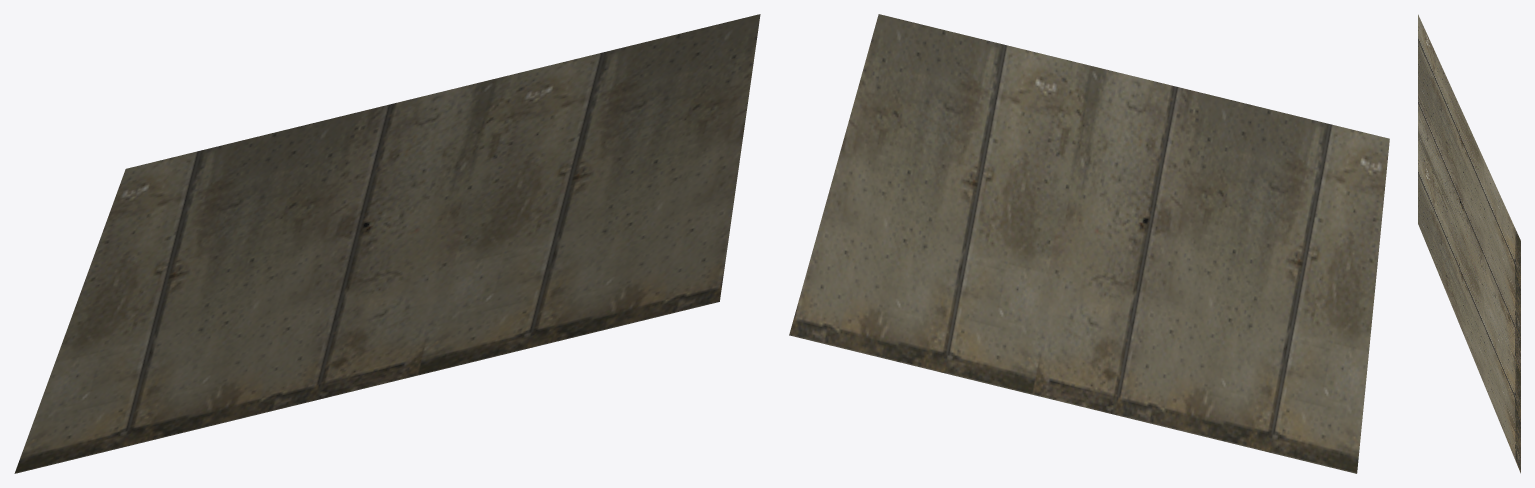
The model's file is MO_ROUNDWALL_03.fbx.
3 views of the same model, side by side, from view 1: azimuth 30°, elevation 25°; view 2: azimuth 150°, elevation 25°; view 3: azimuth 270°, elevation 25° (orthographic). The views are drawn at different scales.
Parts seen in each view (by area): view 1: MO_ROUNDWALL_03; view 2: MO_ROUNDWALL_03; view 3: MO_ROUNDWALL_03.
Boxes of the visible parts, left/top/right/bottom form: MO_ROUNDWALL_03: left=14, top=14, right=760, bottom=473; MO_ROUNDWALL_03: left=789, top=14, right=1389, bottom=473; MO_ROUNDWALL_03: left=1418, top=14, right=1520, bottom=473.
Bounding box in the file's own units: 10.48 × 5 × 1.96.
